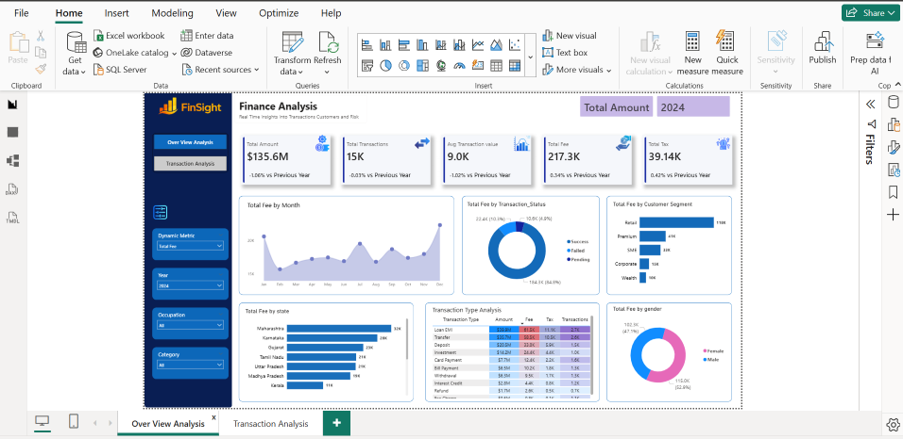

What the dashboard file says about the page in this screenshot:
{"tool":"powerbi","page":{"name":"Over View  Analysis","canvas":[1800,950],"ordinal":0},"visuals":[{"type":"shape","box":[0,-10,264,960],"z":0},{"type":"image","box":[11.1,0,256.9,77.5],"z":1000},{"type":"cardVisual","fields":{"Data":["customers.Dashboard Title"]},"box":[267.1,0,408.1,94],"z":2000},{"type":"cardVisual","fields":{"Data":["finance_transactions.Total Amount"]},"box":[290.5,125.3,270,150],"z":3000},{"type":"slicer","fields":{"Values":["Calendar Table.Year"]},"box":[24,528,230,96],"z":4000},{"type":"cardVisual","fields":{"Data":["finance_transactions.Total Transactions"]},"box":[592.7,125.3,270.6,150],"z":5000},{"type":"cardVisual","fields":{"Data":["finance_transactions.Avg Transaction value"]},"box":[895.4,125.3,270.6,150],"z":6000},{"type":"cardVisual","fields":{"Data":["finance_transactions.Total fee"]},"box":[1198.2,125.3,270.6,150],"z":7000},{"type":"cardVisual","fields":{"Data":["finance_transactions.Total Tax"]},"box":[1500.9,125.3,270.6,150],"z":8000},{"type":"image","box":[509.8,125.3,51.3,48.4],"z":9000},{"type":"image","box":[811.7,125.3,51.3,48.4],"z":10000},{"type":"image","box":[1418.4,125.3,51.3,48.4],"z":11000},{"type":"image","box":[1113.6,125.3,51.3,51.3],"z":12000},{"type":"image","box":[1720.3,128.2,51.3,48.4],"z":13000},{"type":"slicer","fields":{"Values":["Dynamic Metric.Dynamic Metric"]},"box":[24,408,230,96],"z":14000},{"type":"shape","box":[284.8,310.4,649.4,299.1],"z":15000},{"type":"areaChart","fields":{"Category":["Calendar Table.Month"],"Y":["finance_transactions.Total Fee"]},"box":[304.7,324.7,609.5,270.6],"z":16000},{"type":"cardVisual","fields":{"Data":["finance_transactions.Dyamic Measure Selected","finance_transactions.Selected Year"]},"box":[1307.3,2.8,464.2,74.1],"z":17000},{"type":"shape","box":[957,310.4,415.8,299.1],"z":18000},{"type":"donutChart","fields":{"Category":["finance_transactions.transaction_status"],"Y":["finance_transactions.Total Fee"]},"box":[968.4,324.7,390.2,279.1],"z":19000},{"type":"shape","box":[1392.7,310.4,378.8,299.1],"z":20000},{"type":"barChart","fields":{"Category":["customers.customer_segment"],"Y":["finance_transactions.Total Fee"]},"box":[1407,324.7,353.2,270.6],"z":21000},{"type":"shape","box":[284.8,632.3,526.9,299.1],"z":22000},{"type":"barChart","fields":{"Category":["customers.state"],"Y":["finance_transactions.Total Fee"]},"box":[299.1,646.5,501.3,270.6],"z":23000},{"type":"shape","box":[845.9,632.3,526.9,299.1],"z":24000},{"type":"tableEx","title":"Transaction Type Analysis","fields":{"Values":["finance_transactions.transaction_type","finance_transactions.Total Amount","finance_transactions.Total Fee","finance_transactions.Total Tax","finance_transactions.Total Transactions"]},"box":[863,640.8,495.6,284.8],"z":25000},{"type":"shape","box":[1392.7,632.3,378.8,299.1],"z":26000},{"type":"donutChart","fields":{"Category":["customers.gender"],"Y":["finance_transactions.Total Fee"]},"box":[1407,640.8,353.2,279.1],"z":27000},{"type":"slicer","fields":{"Values":["customers.occupation"]},"box":[24,648,230,96],"z":28000},{"type":"slicer","fields":{"Values":["finance_transactions.merchant_category"]},"box":[24,768,230,96],"z":29000},{"type":"pageNavigator","box":[24,120,230,120],"z":30000},{"type":"image","box":[24,336,48,48],"z":30001}]}

Visuals, with their boxes on the page's 1800x950 design canvas (x1, y1, x2, y2). These are canvas units, not pixel positions in the 903x439 screenshot, which may show the page scaled, cropped or inside an application window:
shape: locate(0, -10, 264, 950)
image: locate(11, 0, 268, 78)
cardVisual - customers.Dashboard Title: locate(267, 0, 675, 94)
cardVisual - finance_transactions.Total Amount: locate(290, 125, 560, 275)
slicer - Calendar Table.Year: locate(24, 528, 254, 624)
cardVisual - finance_transactions.Total Transactions: locate(593, 125, 863, 275)
cardVisual - finance_transactions.Avg Transaction value: locate(895, 125, 1166, 275)
cardVisual - finance_transactions.Total fee: locate(1198, 125, 1469, 275)
cardVisual - finance_transactions.Total Tax: locate(1501, 125, 1772, 275)
image: locate(510, 125, 561, 174)
image: locate(812, 125, 863, 174)
image: locate(1418, 125, 1470, 174)
image: locate(1114, 125, 1165, 177)
image: locate(1720, 128, 1772, 177)
slicer - Dynamic Metric.Dynamic Metric: locate(24, 408, 254, 504)
shape: locate(285, 310, 934, 610)
areaChart - Calendar Table.Month x finance_transactions.Total Fee: locate(305, 325, 914, 595)
cardVisual - finance_transactions.Dyamic Measure Selected x finance_transactions.Selected Year: locate(1307, 3, 1772, 77)
shape: locate(957, 310, 1373, 610)
donutChart - finance_transactions.transaction_status x finance_transactions.Total Fee: locate(968, 325, 1359, 604)
shape: locate(1393, 310, 1772, 610)
barChart - customers.customer_segment x finance_transactions.Total Fee: locate(1407, 325, 1760, 595)
shape: locate(285, 632, 812, 931)
barChart - customers.state x finance_transactions.Total Fee: locate(299, 646, 800, 917)
shape: locate(846, 632, 1373, 931)
"Transaction Type Analysis" tableEx: locate(863, 641, 1359, 926)
shape: locate(1393, 632, 1772, 931)
donutChart - customers.gender x finance_transactions.Total Fee: locate(1407, 641, 1760, 920)
slicer - customers.occupation: locate(24, 648, 254, 744)
slicer - finance_transactions.merchant_category: locate(24, 768, 254, 864)
pageNavigator: locate(24, 120, 254, 240)
image: locate(24, 336, 72, 384)
